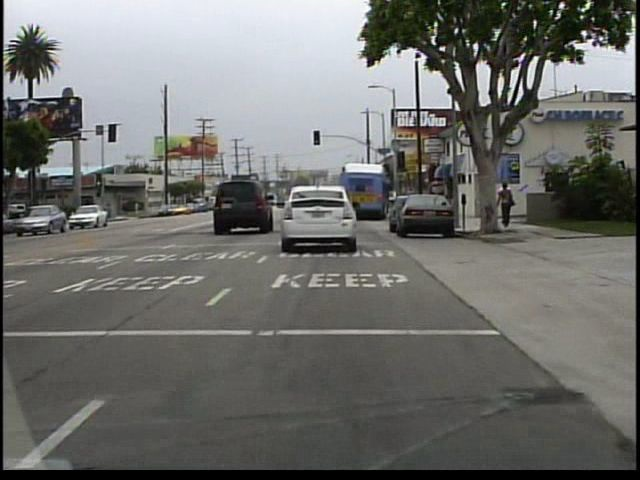person: (496, 179, 515, 230), (497, 180, 514, 227), (132, 198, 143, 219)
